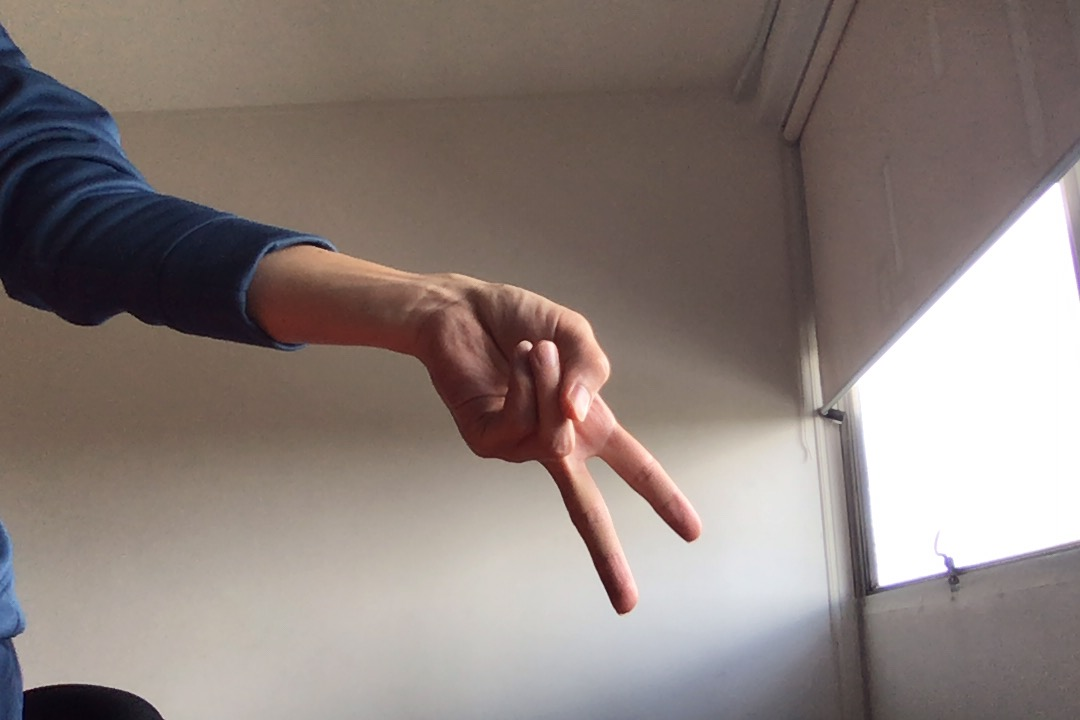peacesign: (432, 264, 713, 626)
